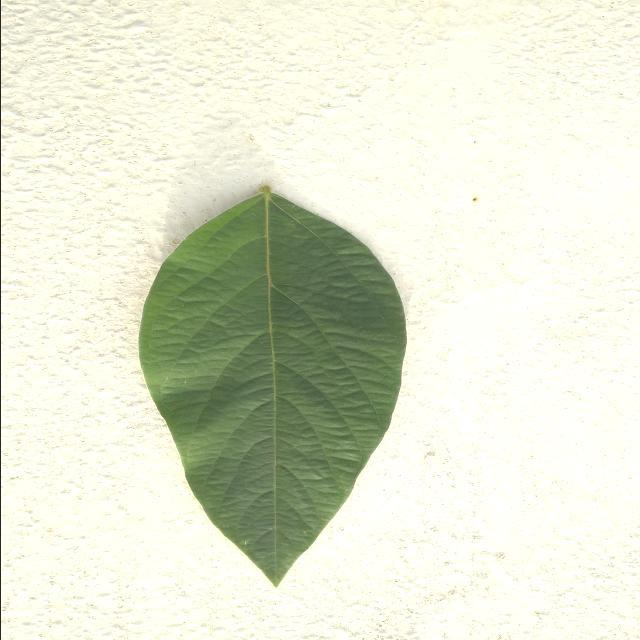leaf: (137, 185, 407, 587)
